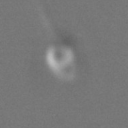normal: (30, 1, 62, 43)
